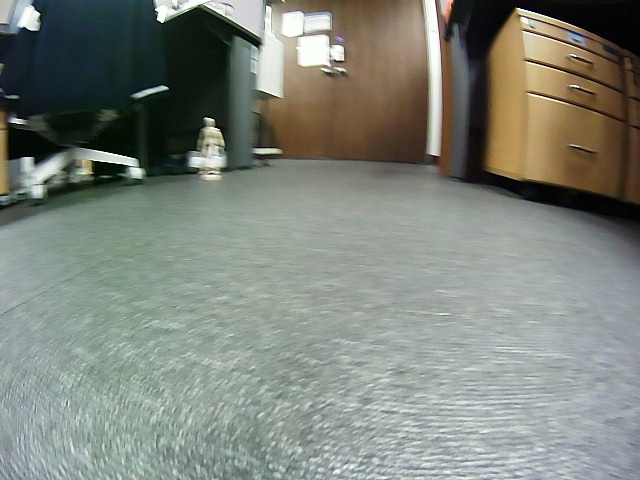person: (199, 118, 224, 176)
